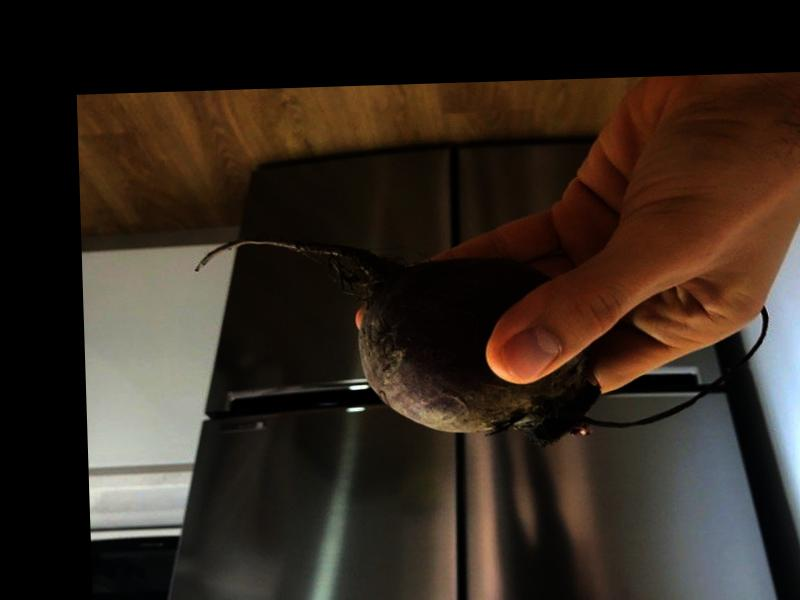Beet: (189, 221, 771, 452)
